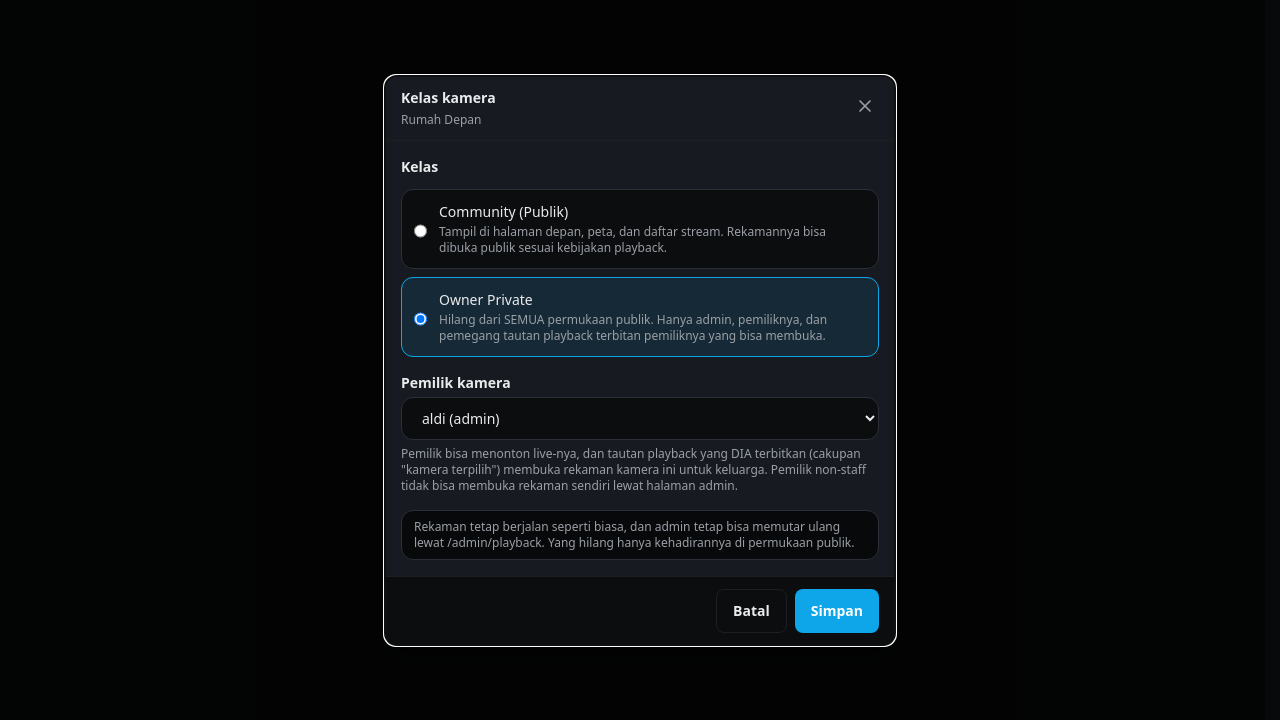
Test: peringatan riwayat saat privat dibuka ke publik › memperingatkan bahwa SELURUH riwayat ikut terbuka, termasuk arsip Telegram
Expected: the text "SELURUH riwayat rekaman" is not shown
Click the radio button labelled "Community" at (420, 230), box [414,206,427,256]
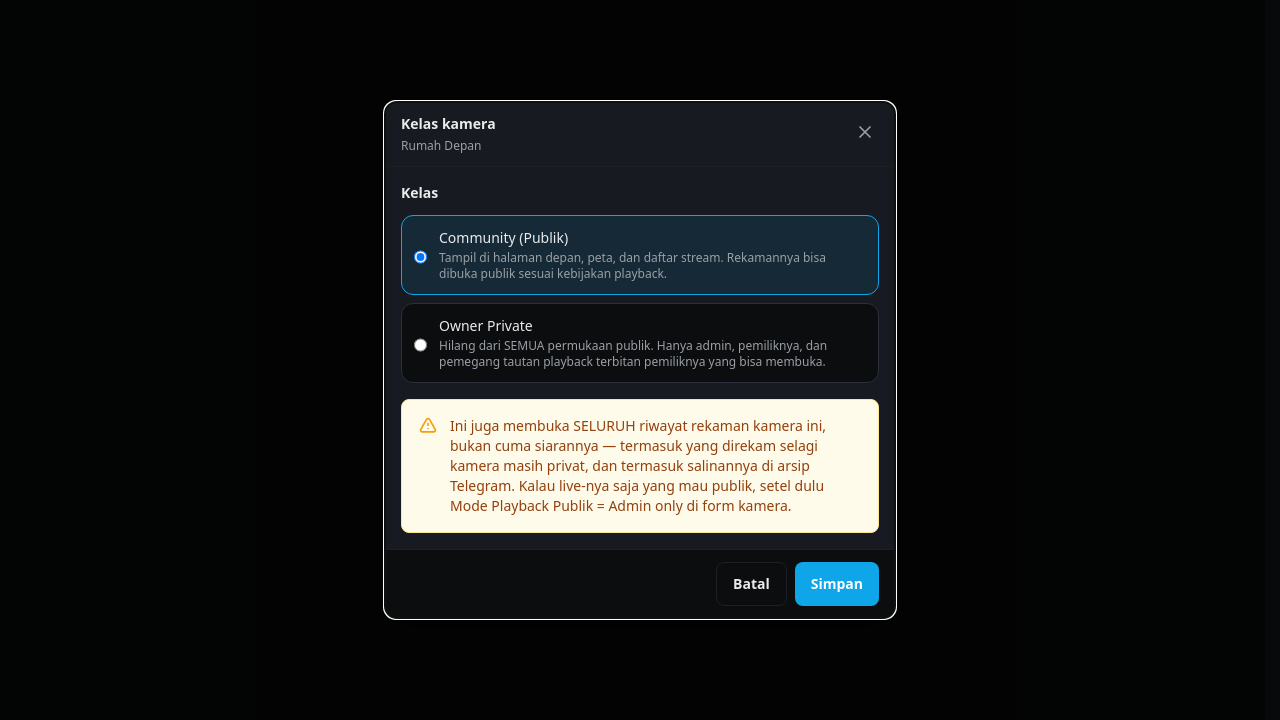
Expected: the text "arsip Telegram" is shown, [450,416,826,515]
